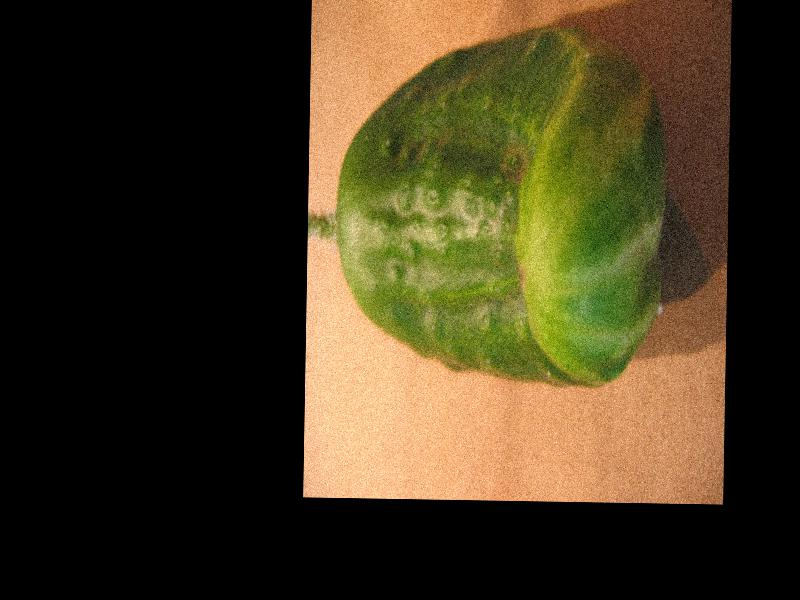Cucumber: (332, 26, 667, 391)
